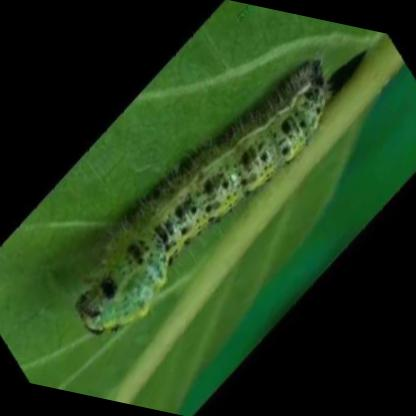pieris: (80, 56, 329, 328)
